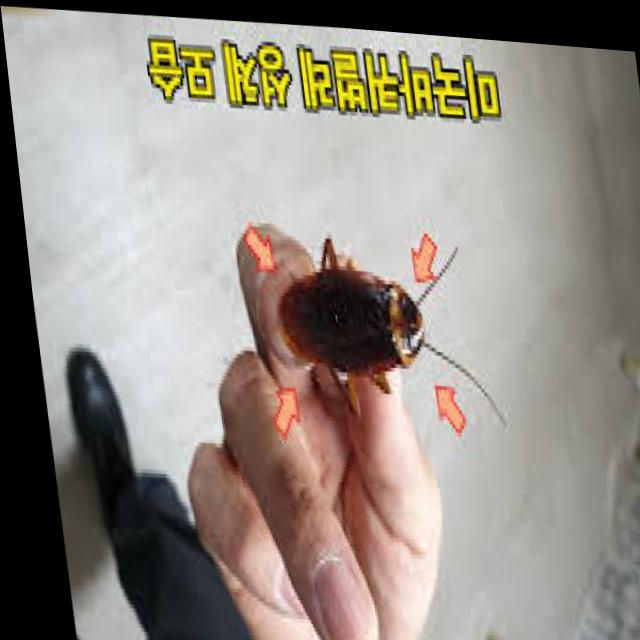Cockroach: (229, 207, 503, 435)
